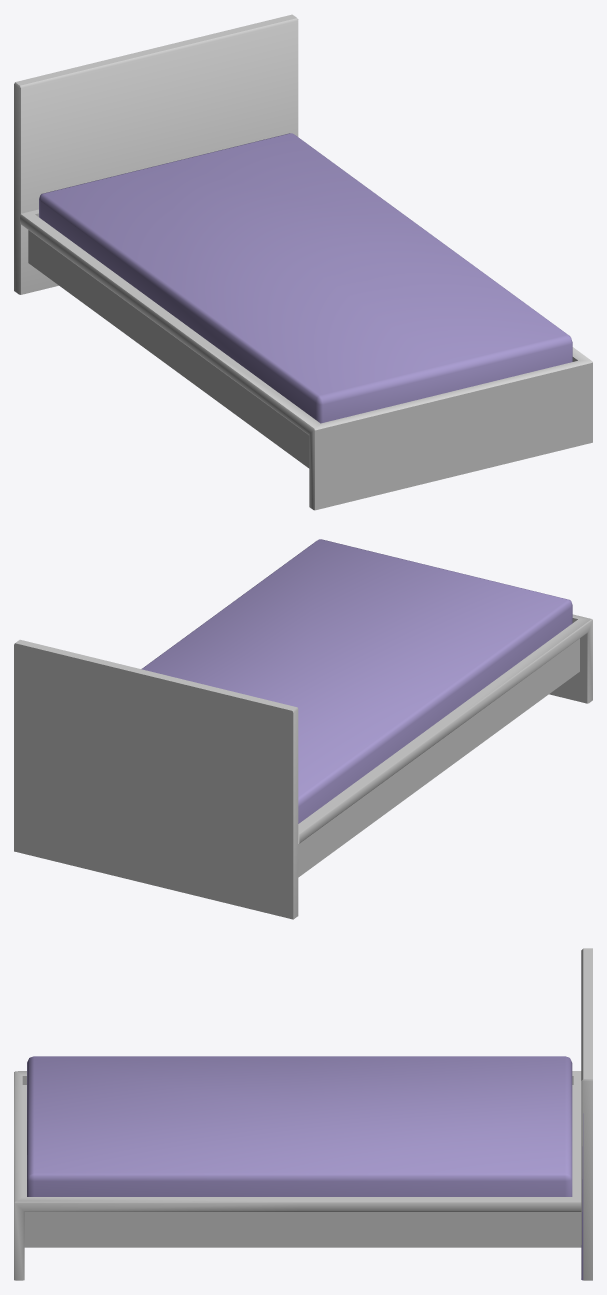
The model's file is MALM01.FBX.
3 views of the same model, one above another, from view 1: azimuth 30°, elevation 25°; view 2: azimuth 150°, elevation 25°; view 3: azimuth 270°, elevation 25° (orthographic). The views are drawn at different scales.
Parts seen in each view (by area): view 1: MALM01; view 2: MALM01; view 3: MALM01.
Boxes of the visible parts, bbox=[...] form: MALM01: bbox=[14, 14, 592, 510]; MALM01: bbox=[14, 539, 592, 919]; MALM01: bbox=[14, 948, 592, 1280].
Bounding box in the file's own units: 108 × 201 × 77.
